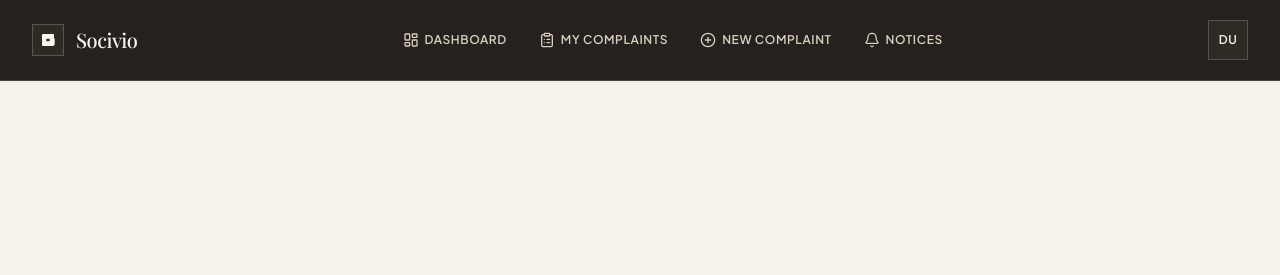
it: Navbar Profile Trigger & Dropdown › renders RESIDENT role correctly in dropdown for resident user
The width and height of the screenshot is (1280, 275).
Expected: the text "DU" is shown, [1219,32,1237,48]
Click the button with aria-label "Open account menu" at (1228, 40), box [1208,20,1248,60]
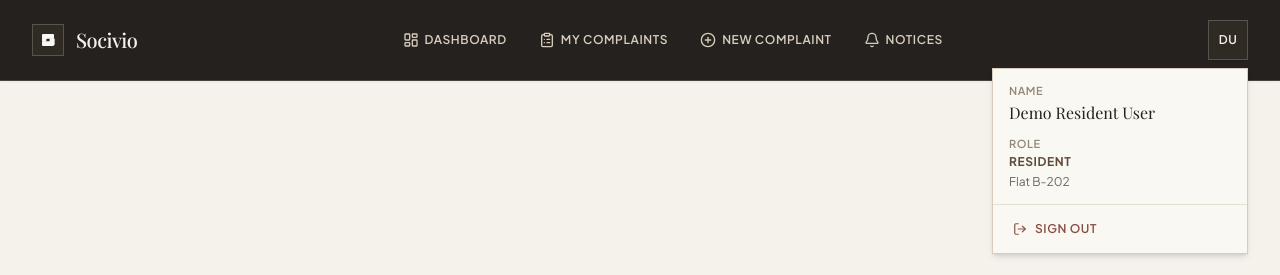
Result: the text "Demo Resident User" is shown at [1009,102,1155,122]
Result: the text "RESIDENT" is shown at [1009,154,1071,169]
Result: the text "Flat B-202" is shown at [1009,174,1070,189]
